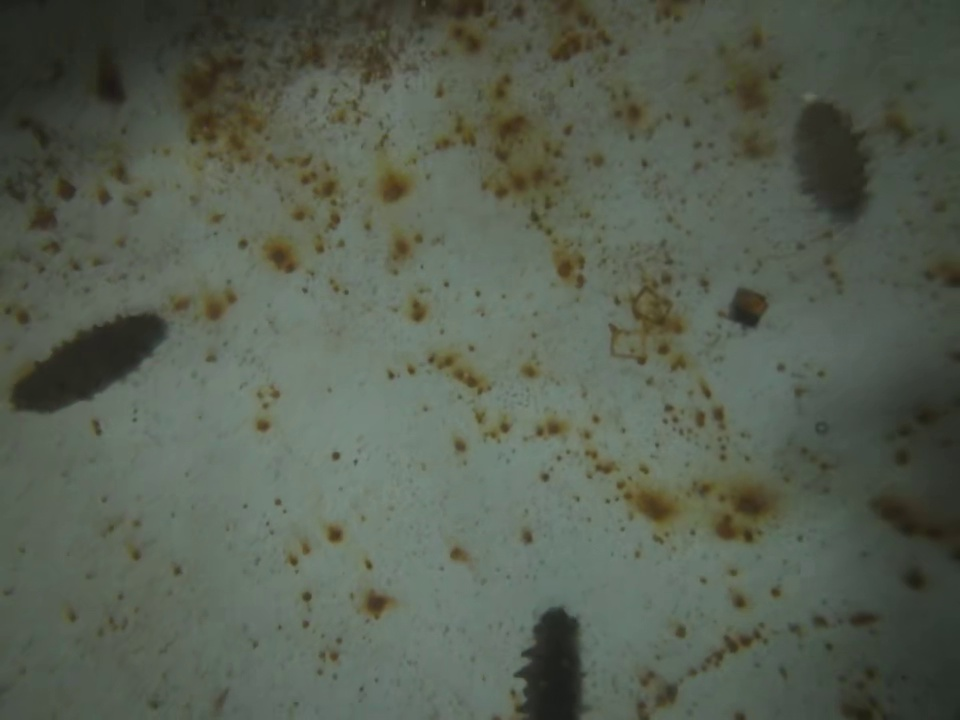seacucumber: (11, 310, 172, 412), (793, 100, 874, 220), (512, 602, 592, 720)
